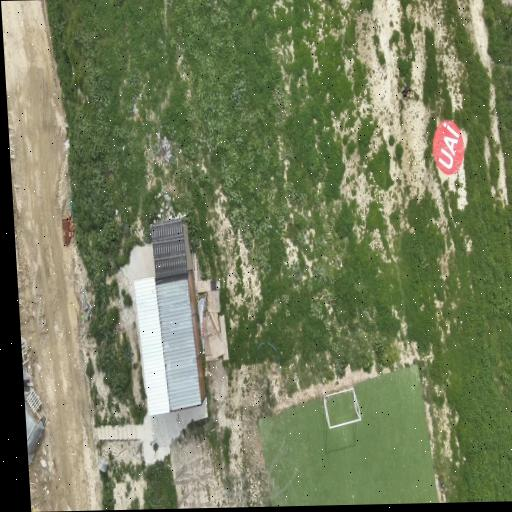person: (400, 84, 409, 97)
uai: (432, 119, 463, 174)
